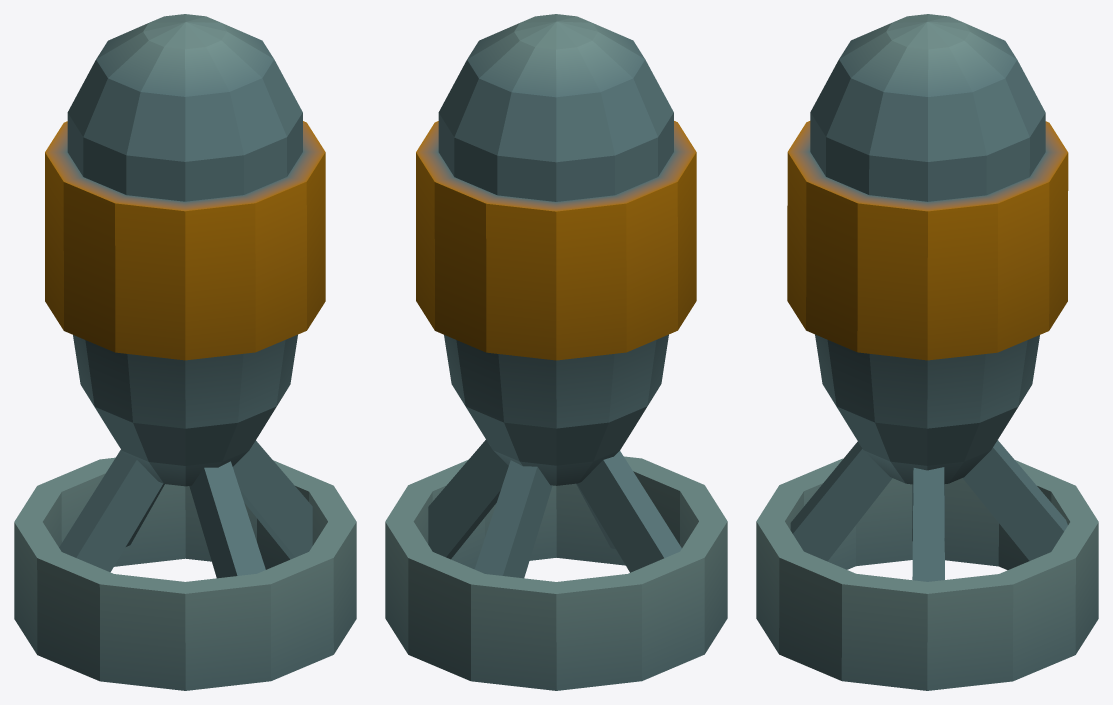
The model's file is Tank Shell Round.fbx.
3 views of the same model, side by side, from view 1: azimuth 30°, elevation 25°; view 2: azimuth 150°, elevation 25°; view 3: azimuth 270°, elevation 25° (orthographic).
Parts seen in each view (by area): view 1: Round Tank Shell; view 2: Round Tank Shell; view 3: Round Tank Shell.
Part boxes in pixels (bbox=[...]): Round Tank Shell: bbox=[14, 14, 356, 690]; Round Tank Shell: bbox=[385, 14, 727, 690]; Round Tank Shell: bbox=[756, 14, 1098, 690].
Size of the model in its own units: 47.69 by 91.74 by 47.72.
